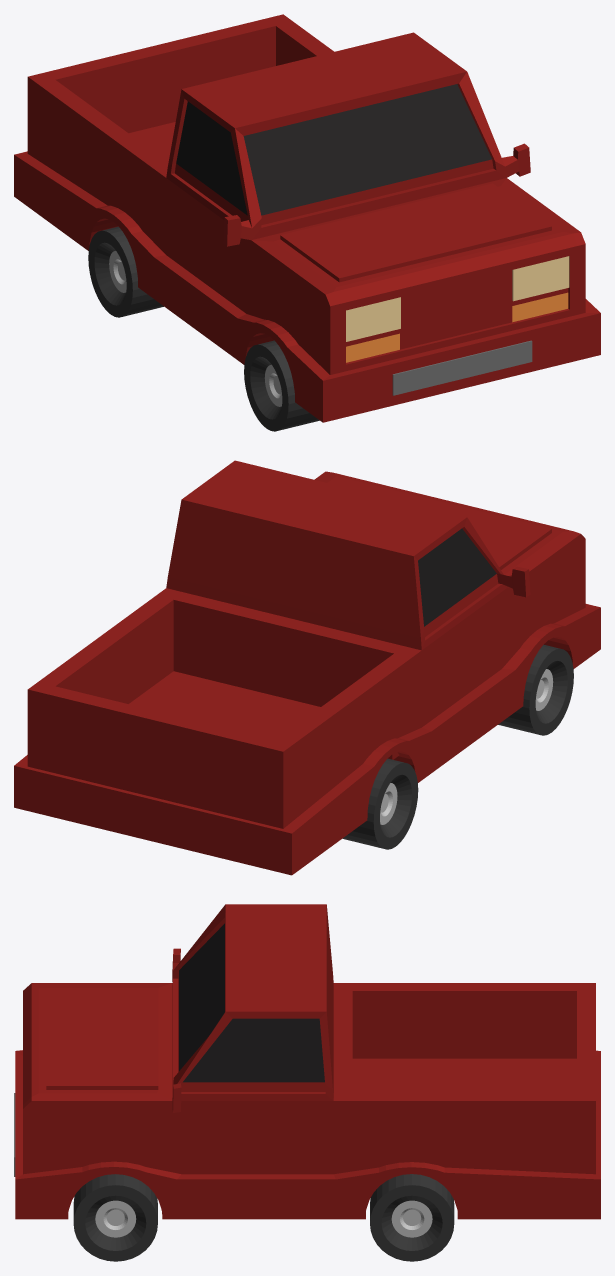
The model's file is pickup trucknew1.fbx.
The picture shows the model from 3 angles, top to bottom: view 1: azimuth 30°, elevation 25°; view 2: azimuth 150°, elevation 25°; view 3: azimuth 270°, elevation 25°; orthographic projection. The views are drawn at different scales.
Parts seen in each view (by area): view 1: Cube, Cylinder.002, Cylinder.004; view 2: Cube, Cylinder.004, Cylinder.002; view 3: Cube, Cylinder.003, Cylinder.005.
Part boxes in pixels (x1,y1,x2,y2): Cube: [14, 14, 600, 422]; Cylinder.002: [244, 340, 319, 431]; Cylinder.004: [88, 226, 163, 317]; Cube: [14, 460, 600, 875]; Cylinder.004: [342, 758, 418, 849]; Cylinder.002: [498, 644, 573, 735]; Cube: [14, 904, 600, 1219]; Cylinder.003: [73, 1174, 157, 1261]; Cylinder.005: [370, 1174, 454, 1261].
Bounding box in the file's own units: 219 × 173 × 386.
